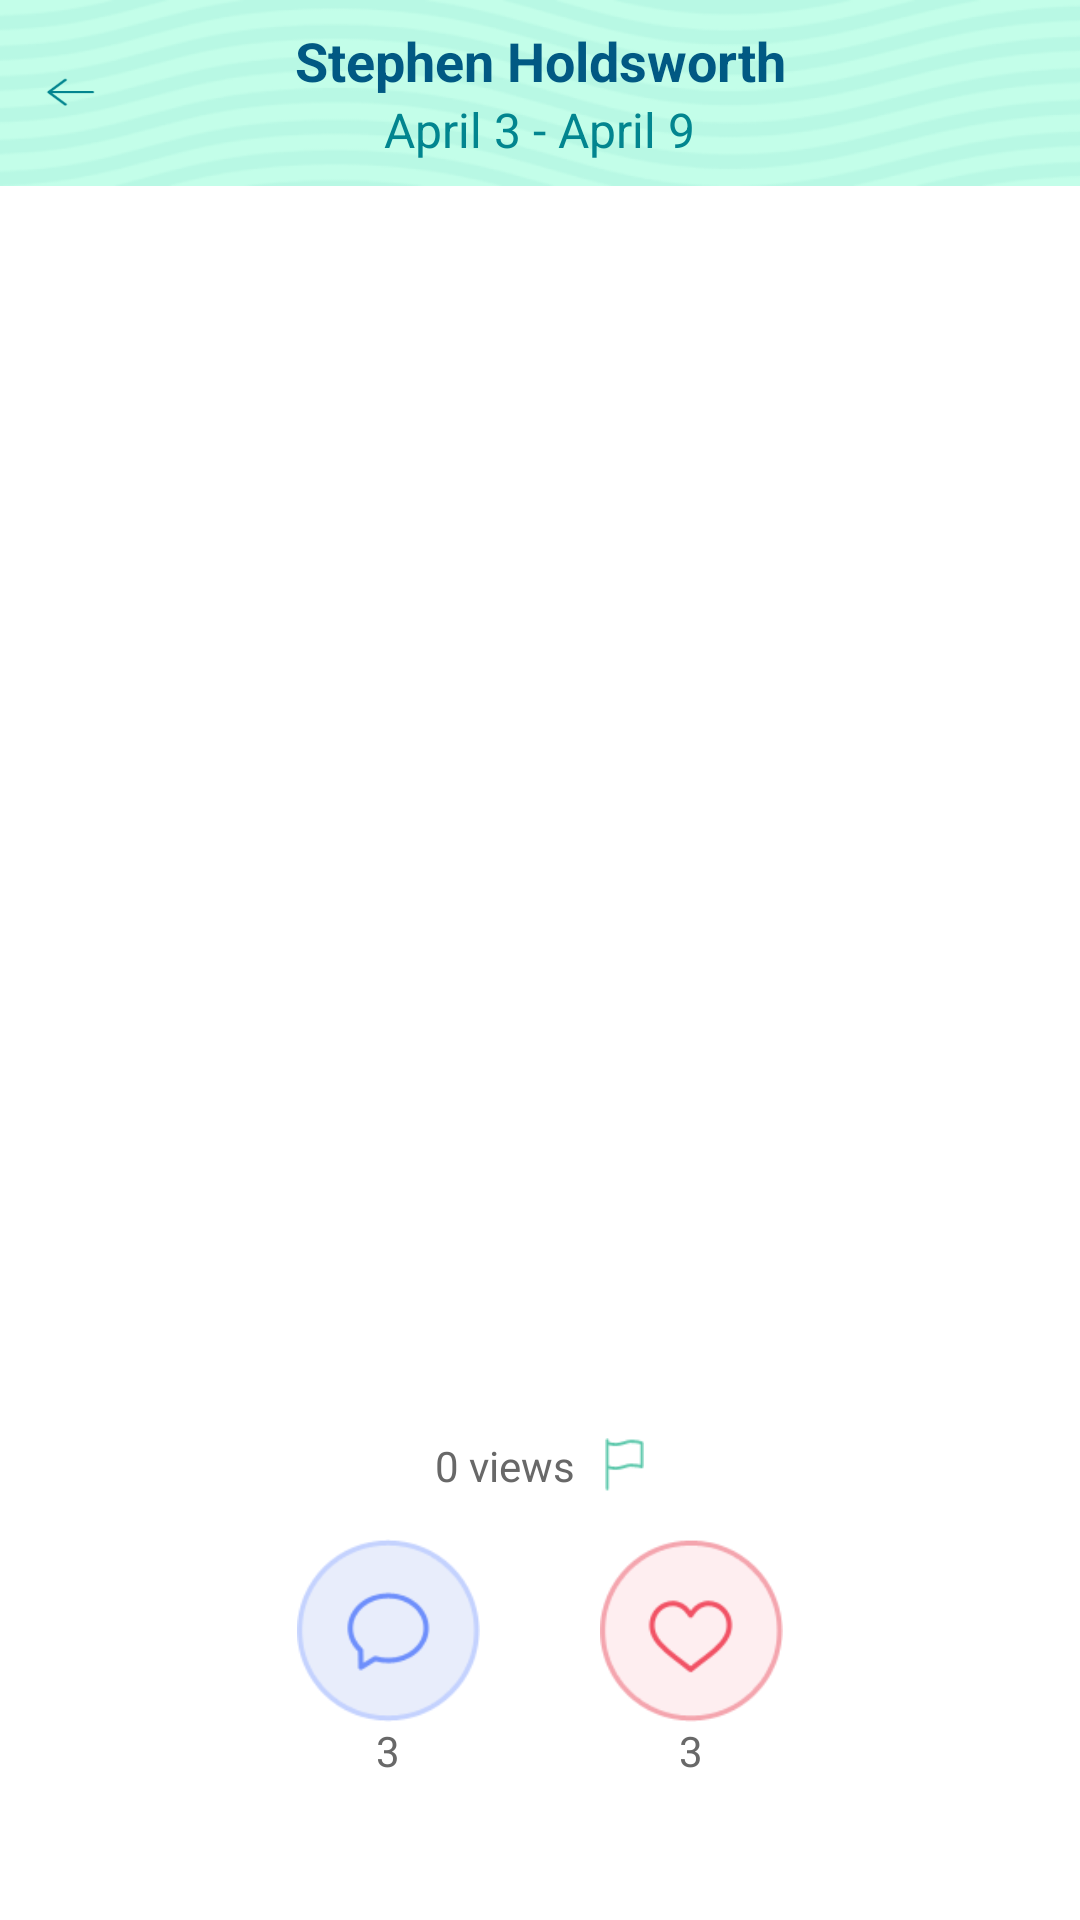

Locate icon controls on the screen. Image size 1080px×1920px, boxes as {"left": x1, "top": y1, "right": x2, "bottom": y2}.
flag: {"left": 605, "top": 1438, "right": 644, "bottom": 1491}
lft arrow: {"left": 47, "top": 78, "right": 94, "bottom": 106}
